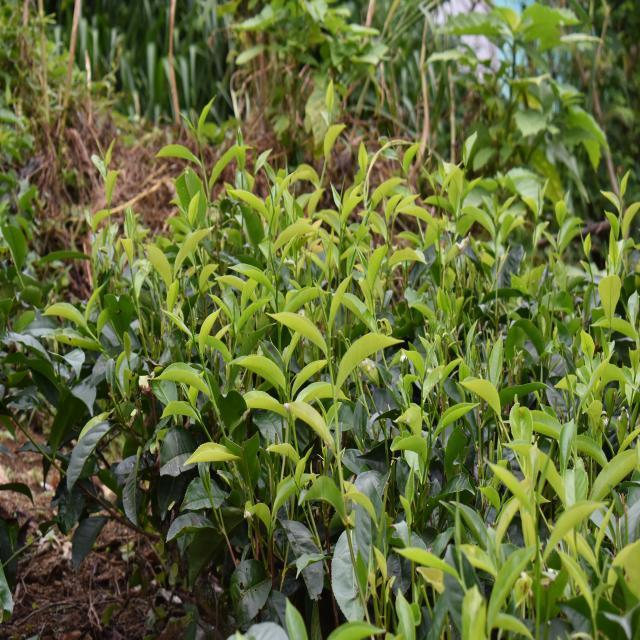Stem: (327, 358, 331, 365), (85, 326, 89, 332), (437, 202, 441, 207), (201, 359, 204, 365), (495, 221, 497, 225)
